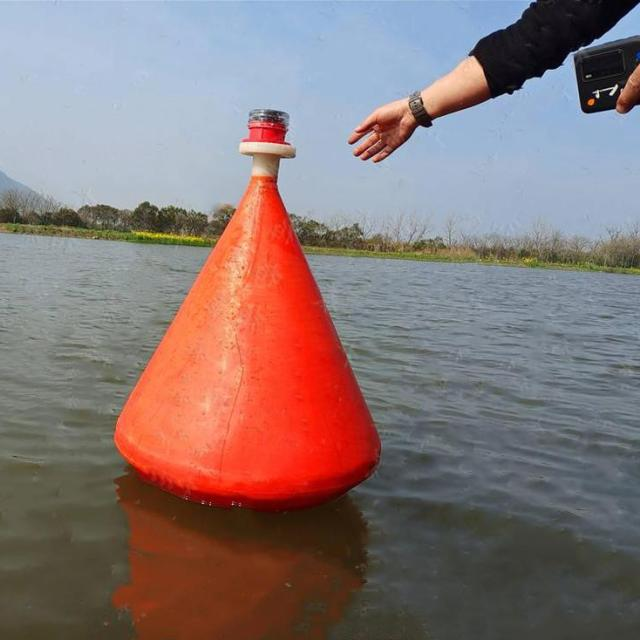buoy: (109, 98, 383, 495)
